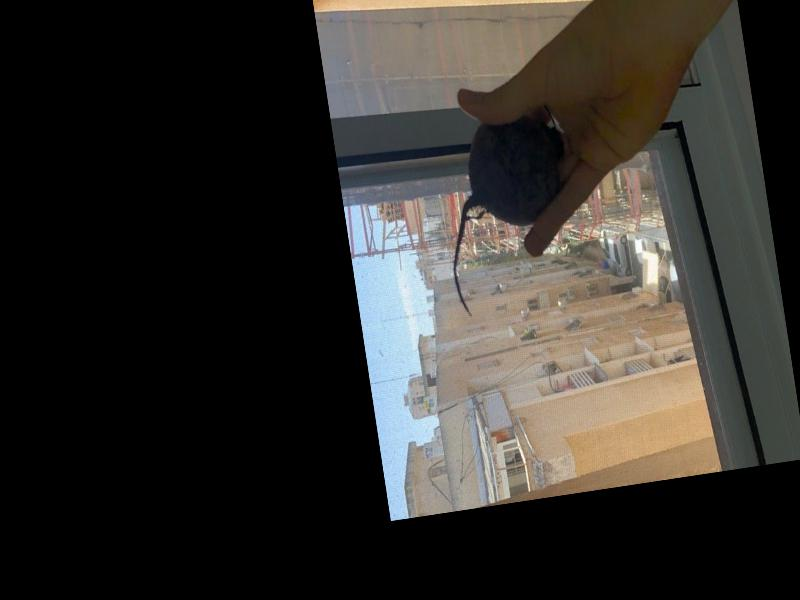Beet: (431, 113, 586, 319)
